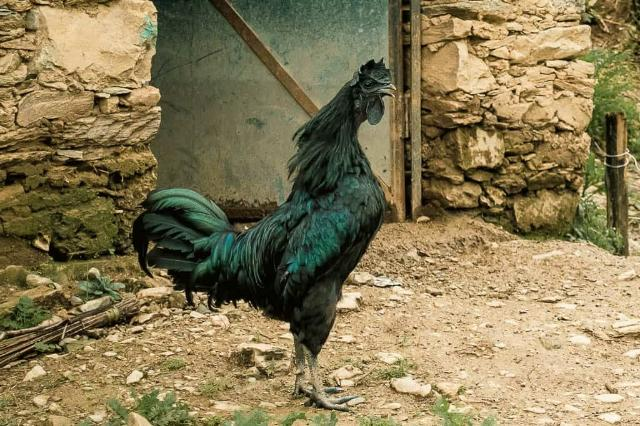Chicken: (129, 55, 398, 416)
